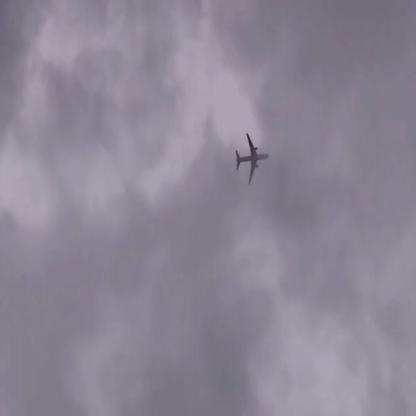CIV_Plane: (234, 134, 270, 184)
